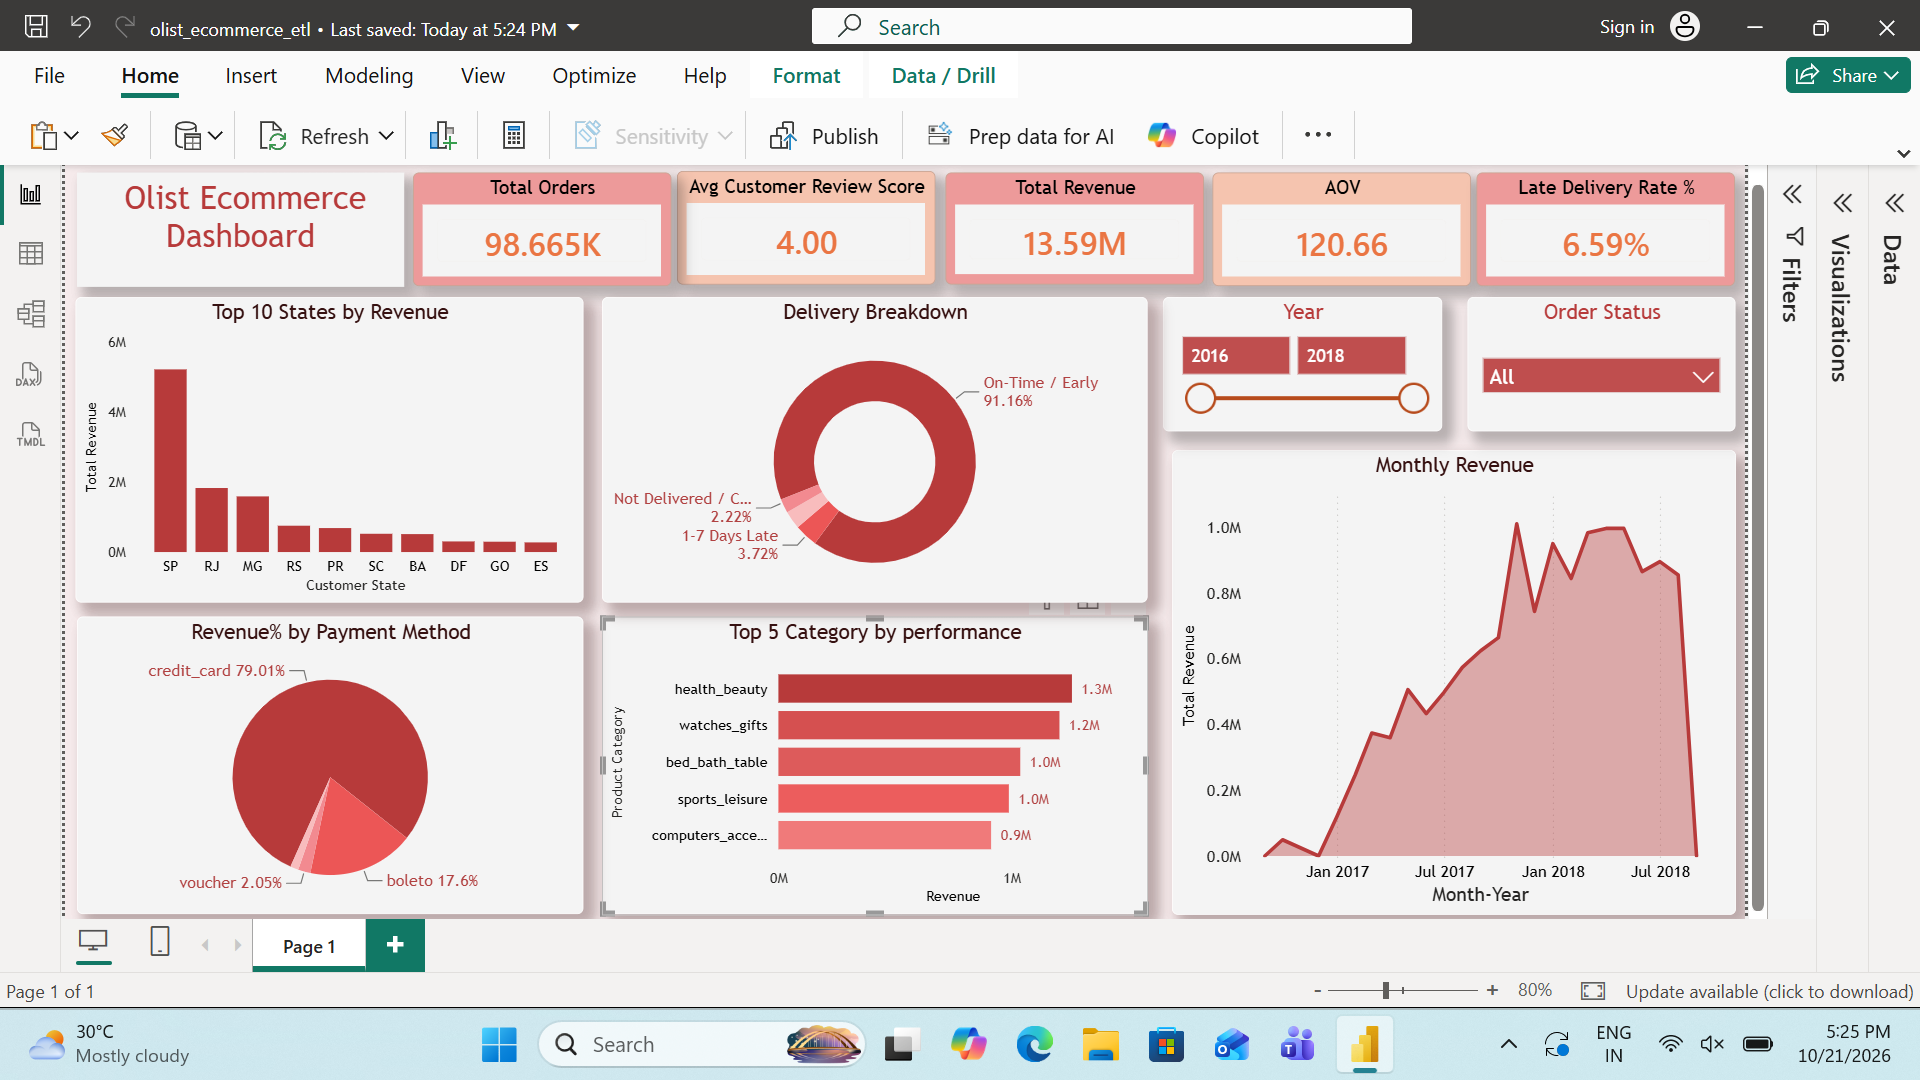

The page's visual inventory and layout, read from the dashboard file:
{"tool":"powerbi","page":{"name":"Page 1","canvas":[1400,640],"ordinal":0},"visuals":[{"type":"textbox","box":[10,11.2,272.5,95],"z":0},{"type":"cardVisual","title":"Avg Customer Review Score","fields":{"Data":["warehouse fact_orders.average_customer_review_score"]},"box":[510.4,10.4,215.6,94.8],"z":1000},{"type":"cardVisual","title":"Total Orders","fields":{"Data":["Count(warehouse fact_orders.order_id)"]},"box":[289.6,11.7,215,94.8],"z":2000},{"type":"cardVisual","title":"Total Revenue","fields":{"Data":["warehouse fact_orders.Total Revenue"]},"box":[733.8,11.7,215.6,93.5],"z":3000},{"type":"cardVisual","title":"AOV ","fields":{"Data":["warehouse fact_orders.Average_order_value"]},"box":[955.8,11.7,215.6,94.8],"z":4000},{"type":"cardVisual","title":"Late Delivery Rate %","fields":{"Data":["warehouse fact_orders.Late Delivery Rate %"]},"box":[1176.6,11.7,215.6,94.8],"z":5000},{"type":"columnChart","title":"Top 10 States by Revenue","fields":{"Category":["warehouse dim_customers.customer_state"],"Y":["Sum(warehouse fact_orders.price)"]},"box":[9.1,115.6,423.4,254.5],"z":6000},{"type":"barChart","title":"Top 5 Category by performance","fields":{"Category":["warehouse dim_products.product_category_name_english"],"Y":["Sum(warehouse fact_orders.price)"]},"box":[448.1,381.8,454.5,248.1],"z":7000},{"type":"lineChart","title":"Monthly Revenue","fields":{"Category":["warehouse dim_date.date_actual.Variation.Date Hierarchy.Year","warehouse dim_date.date_actual.Variation.Date Hierarchy.Month"],"Y":["Sum(warehouse fact_orders.price)"]},"box":[922.1,242.9,470.1,387],"z":8000},{"type":"pieChart","title":"Revenue% by Payment Method","fields":{"Category":["warehouse fact_orders.payment_type"],"Y":["Sum(warehouse fact_orders.price)"]},"box":[10.4,381.8,422.1,248.1],"z":9000},{"type":"slicer","title":"Year","fields":{"Values":["warehouse dim_date.year"]},"box":[915.6,115.6,232.5,111.7],"z":10000},{"type":"donutChart","title":"Delivery Breakdown","fields":{"Category":["warehouse fact_orders.Delivery Performance Status"],"Y":["Count(warehouse fact_orders.order_id)"]},"box":[448.1,115.6,454.5,254.5],"z":11000},{"type":"slicer","title":"Order Status","fields":{"Values":["warehouse fact_orders.order_status"]},"box":[1168.8,115.6,223.4,111.7],"z":12000}]}

Visuals, with their boxes on the page's 1400x640 design canvas (x1, y1, x2, y2). These are canvas units, not pixel positions in the 1920x1080 screenshot, which may show the page scaled, cropped or inside an application window:
textbox: <bbox>10, 11, 282, 106</bbox>
"Avg Customer Review Score" cardVisual: <bbox>510, 10, 726, 105</bbox>
"Total Orders" cardVisual: <bbox>290, 12, 505, 106</bbox>
"Total Revenue" cardVisual: <bbox>734, 12, 949, 105</bbox>
"AOV " cardVisual: <bbox>956, 12, 1171, 106</bbox>
"Late Delivery Rate %" cardVisual: <bbox>1177, 12, 1392, 106</bbox>
"Top 10 States by Revenue" columnChart: <bbox>9, 116, 432, 370</bbox>
"Top 5 Category by performance" barChart: <bbox>448, 382, 903, 630</bbox>
"Monthly Revenue" lineChart: <bbox>922, 243, 1392, 630</bbox>
"Revenue% by Payment Method" pieChart: <bbox>10, 382, 432, 630</bbox>
"Year" slicer: <bbox>916, 116, 1148, 227</bbox>
"Delivery Breakdown" donutChart: <bbox>448, 116, 903, 370</bbox>
"Order Status" slicer: <bbox>1169, 116, 1392, 227</bbox>
